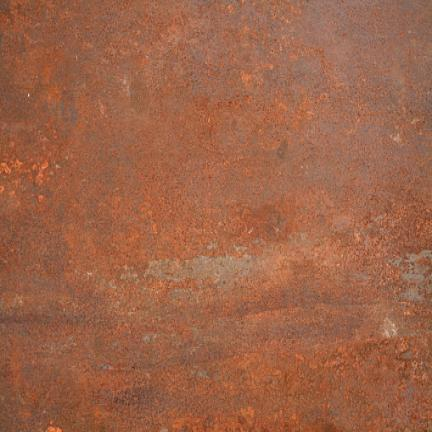karat: (0, 0, 431, 431), (0, 0, 11, 45)
